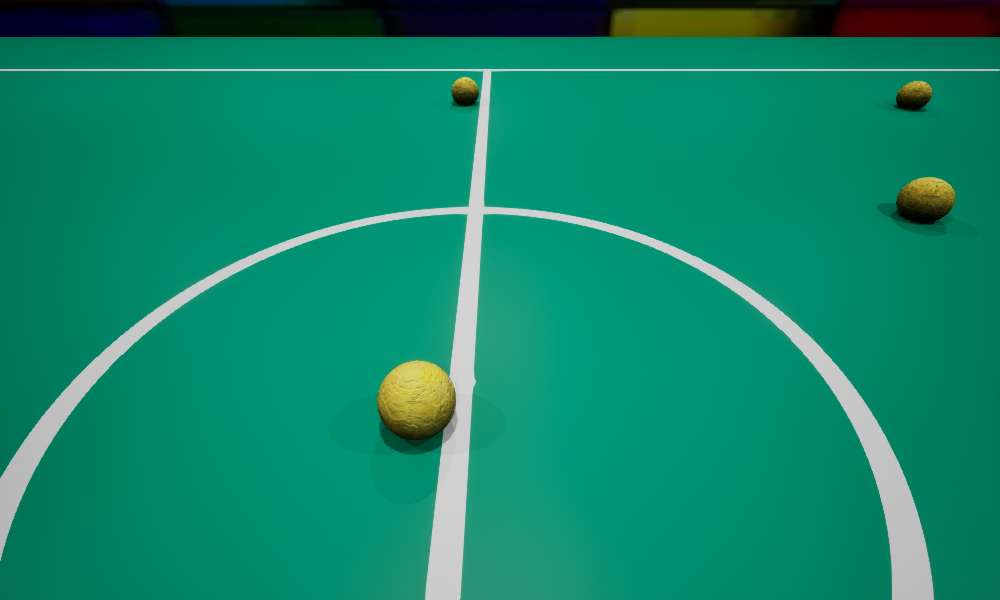b: (377, 360, 455, 439), (896, 177, 955, 222), (896, 81, 931, 109), (451, 77, 478, 104)
